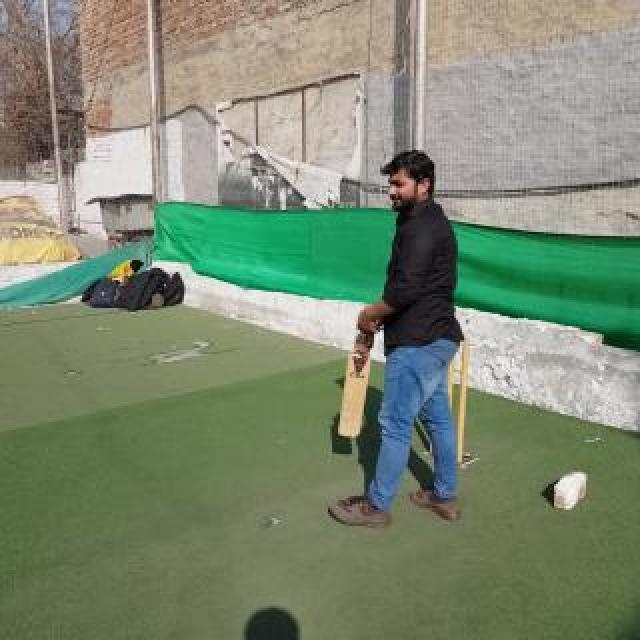bat: (337, 328, 375, 438)
